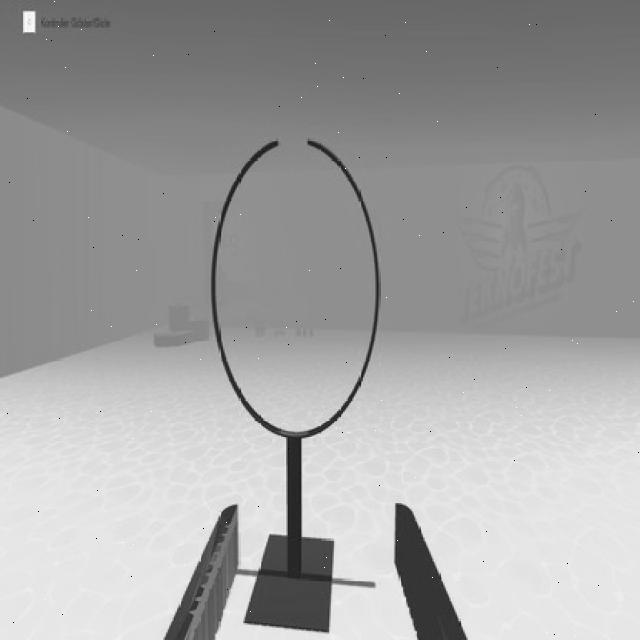Circle: (206, 131, 382, 441)
